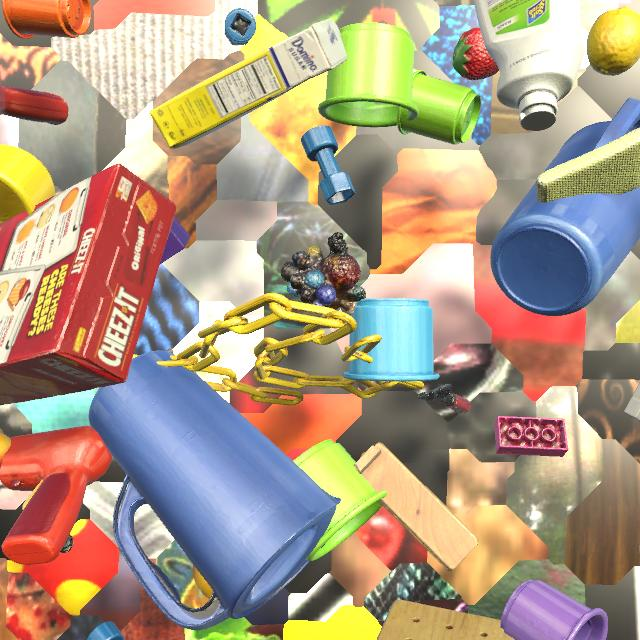ycb_003_cracker_box: (0, 163, 177, 406)
ycb_004_sugar_box: (149, 19, 347, 149)
ycb_012_strawberry: (452, 28, 499, 80)
ycb_014_lemon: (586, 6, 640, 76)
ycb_015_peach: (193, 565, 213, 599), (0, 428, 11, 468)
